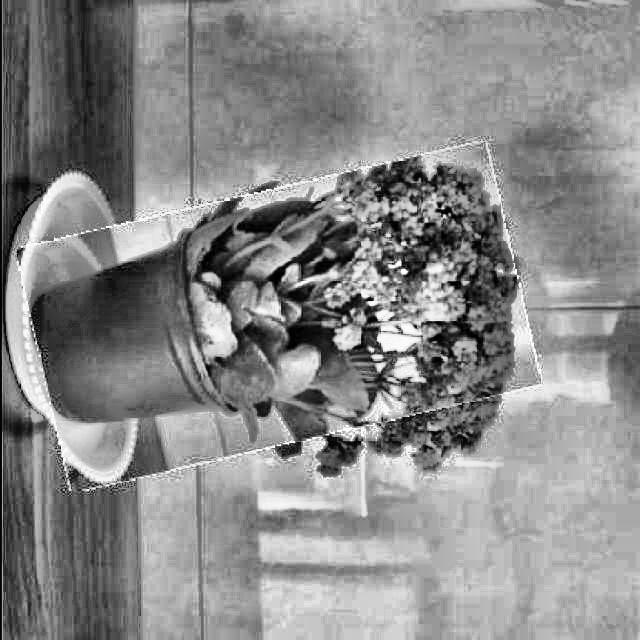plants: (24, 165, 530, 467)
